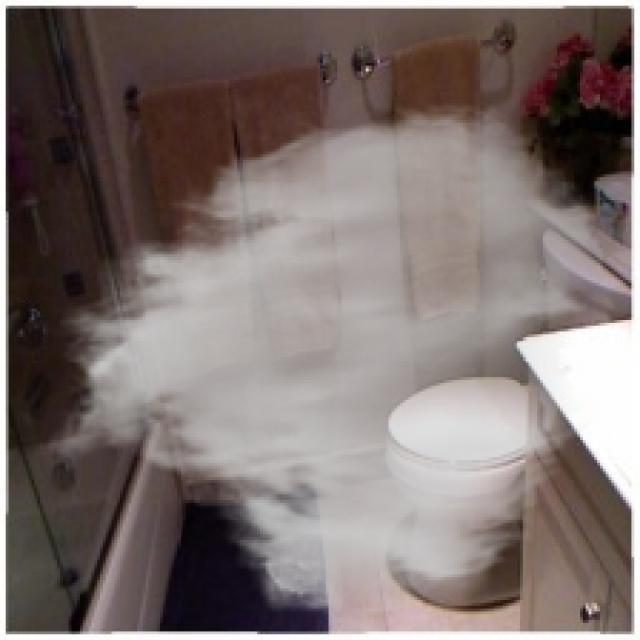Smoke: (46, 100, 608, 620)
